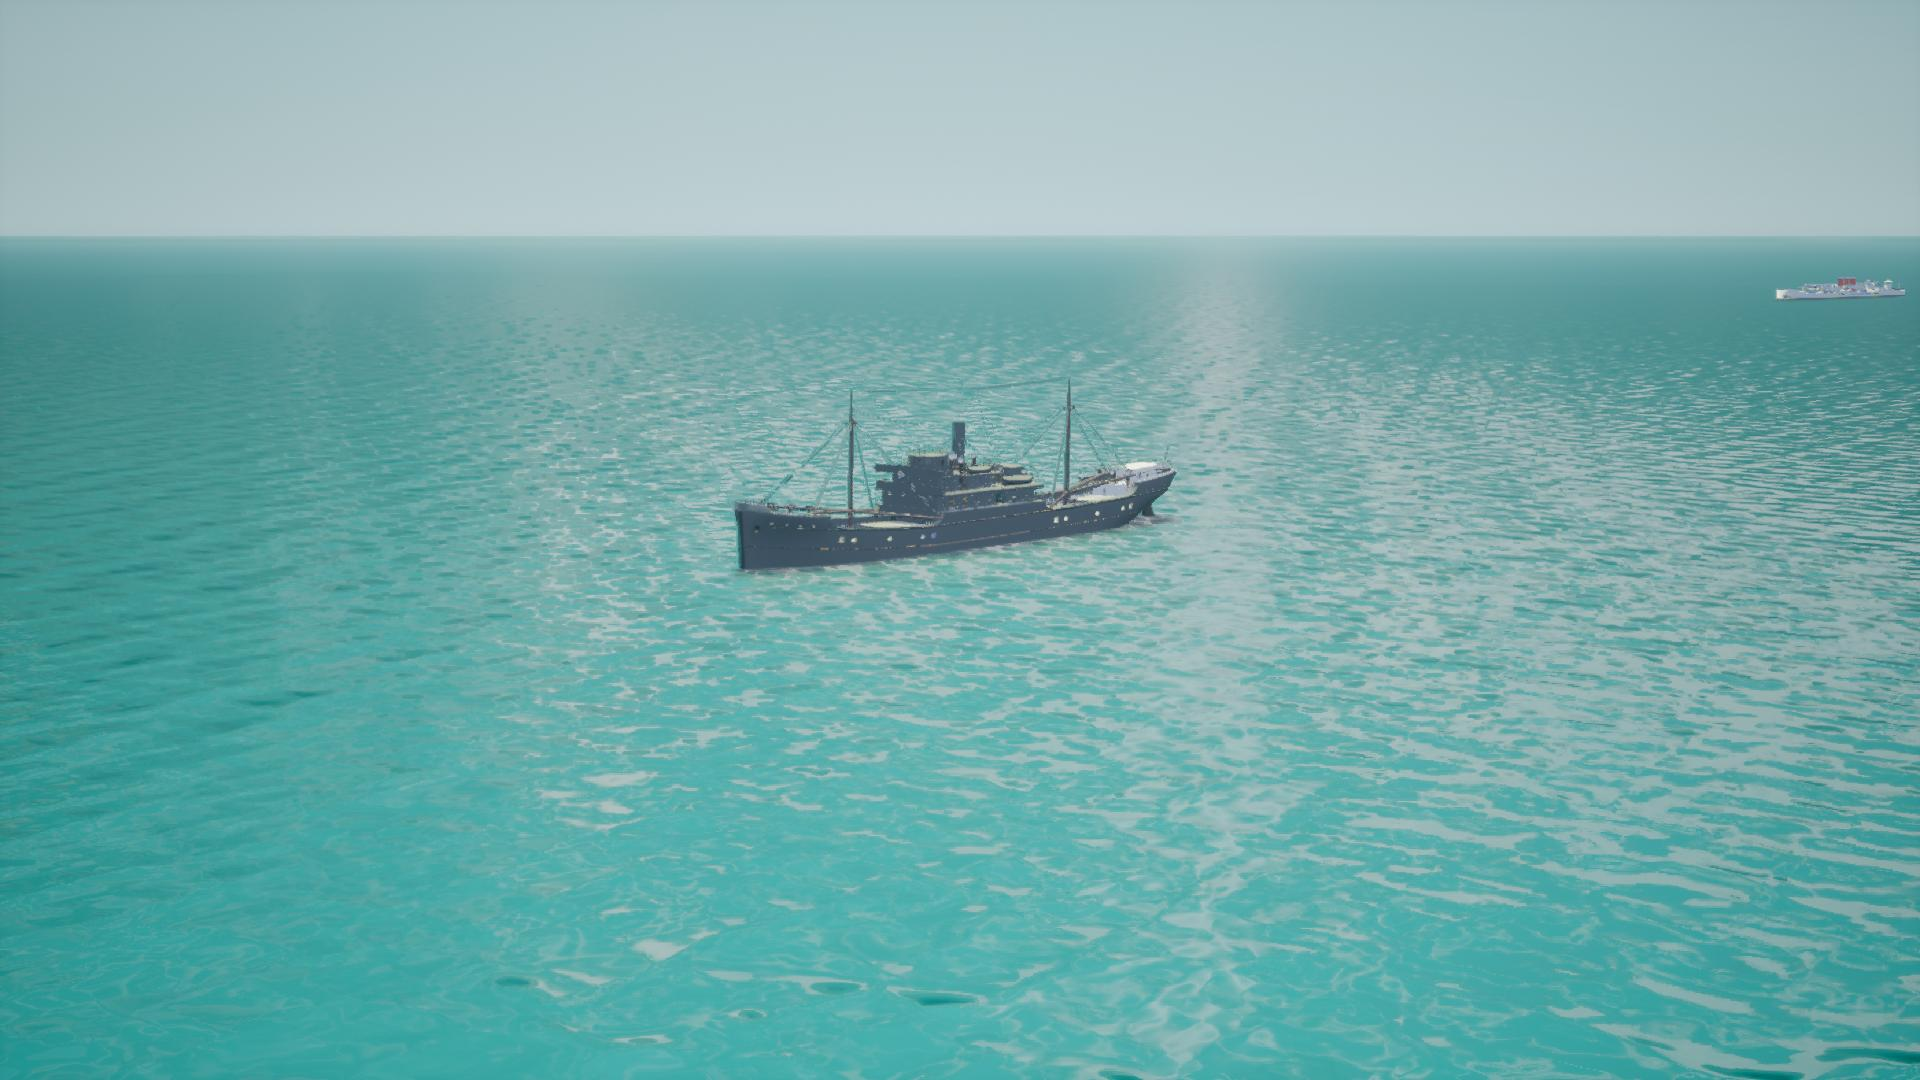Fishing Boat: (736, 410, 1174, 571), (1778, 276, 1909, 302)
